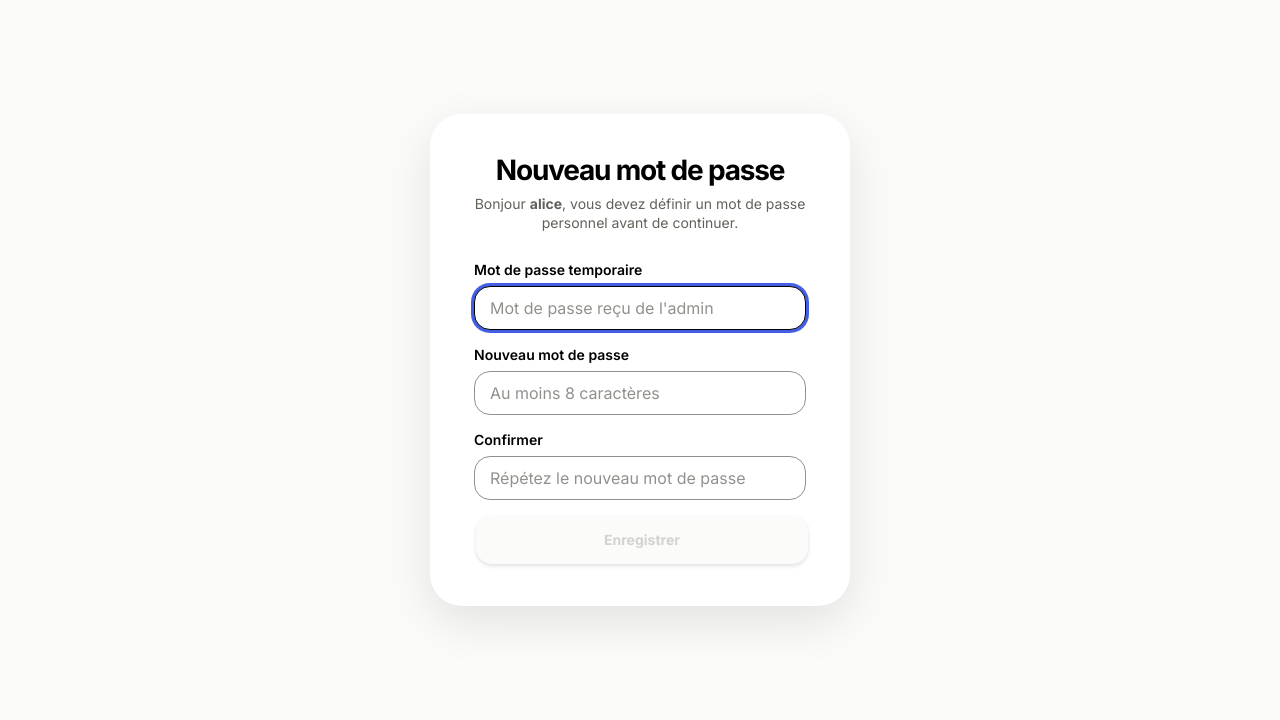
Test: ChangePasswordPage › affiche une erreur si le nouveau mot de passe est trop court
The width and height of the screenshot is (1280, 720).
Type "oldpass" into the password field labelled "Mot de passe temporaire" at (640, 308), box [474,286,806,330]
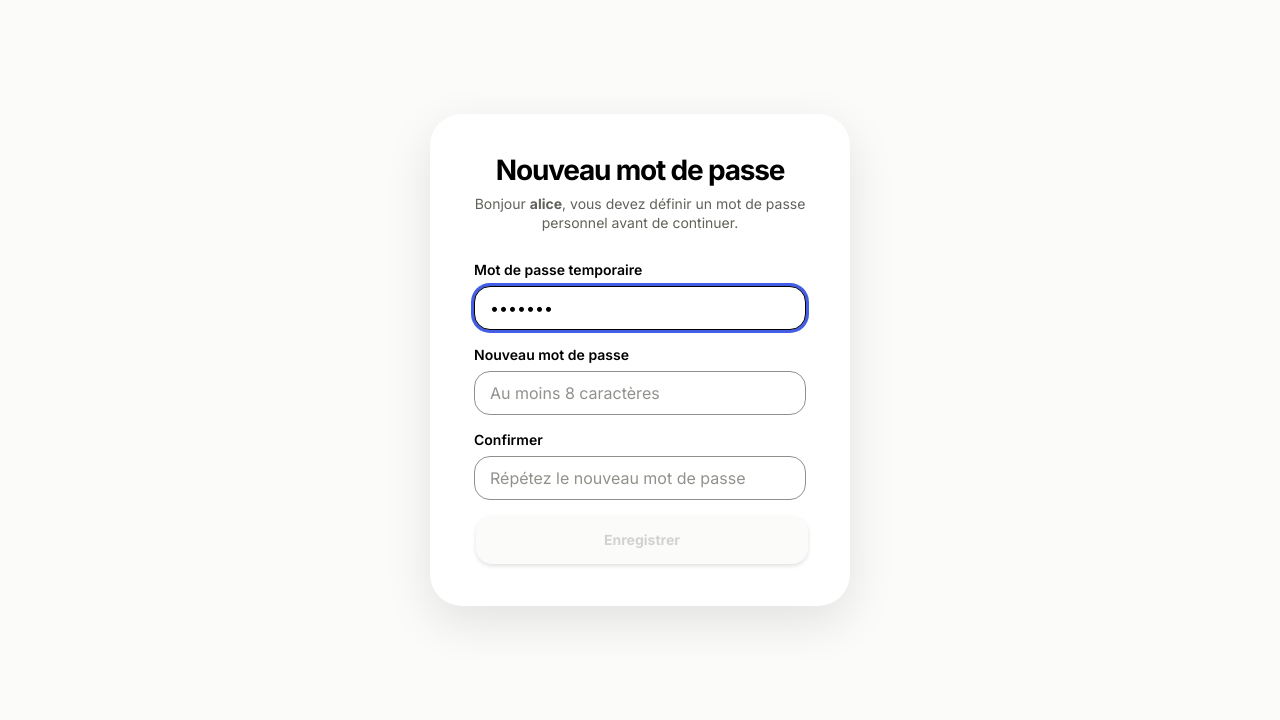
Type "court" into the password field labelled "Nouveau mot de passe" at (640, 393), box [474,371,806,415]
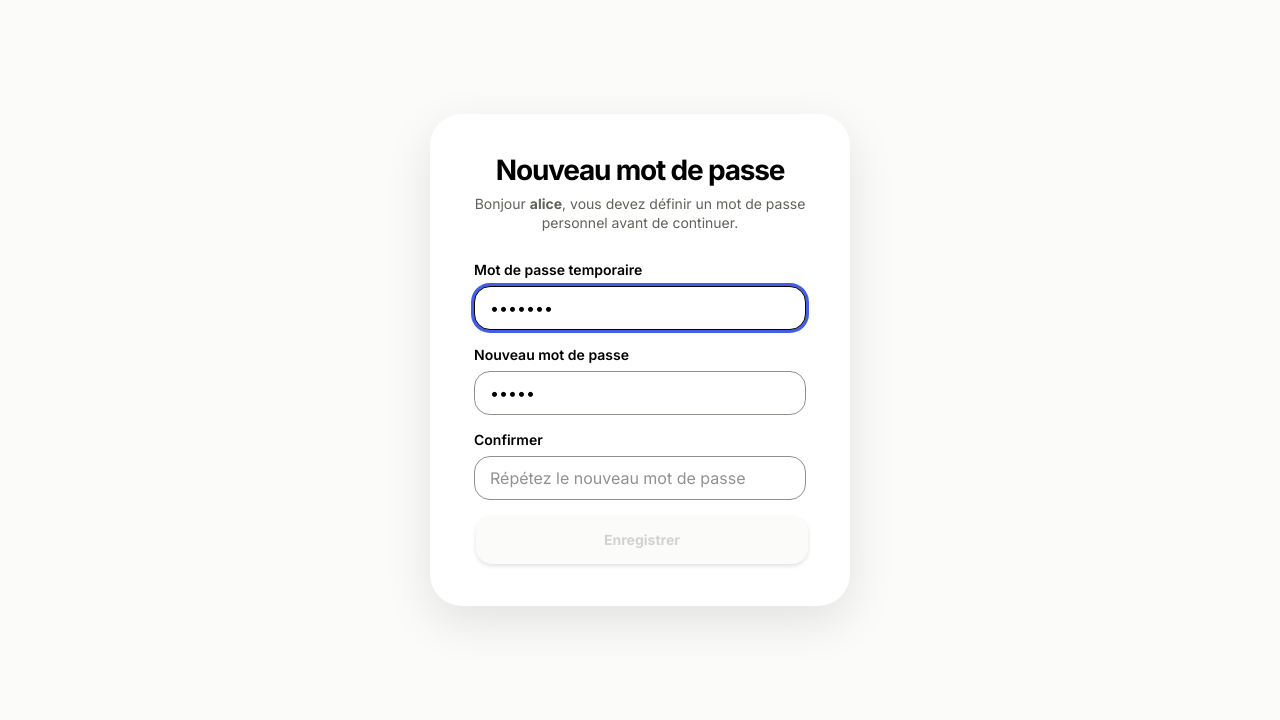
Type "court" into the password field labelled "Confirmer" at (640, 478), box [474,456,806,500]
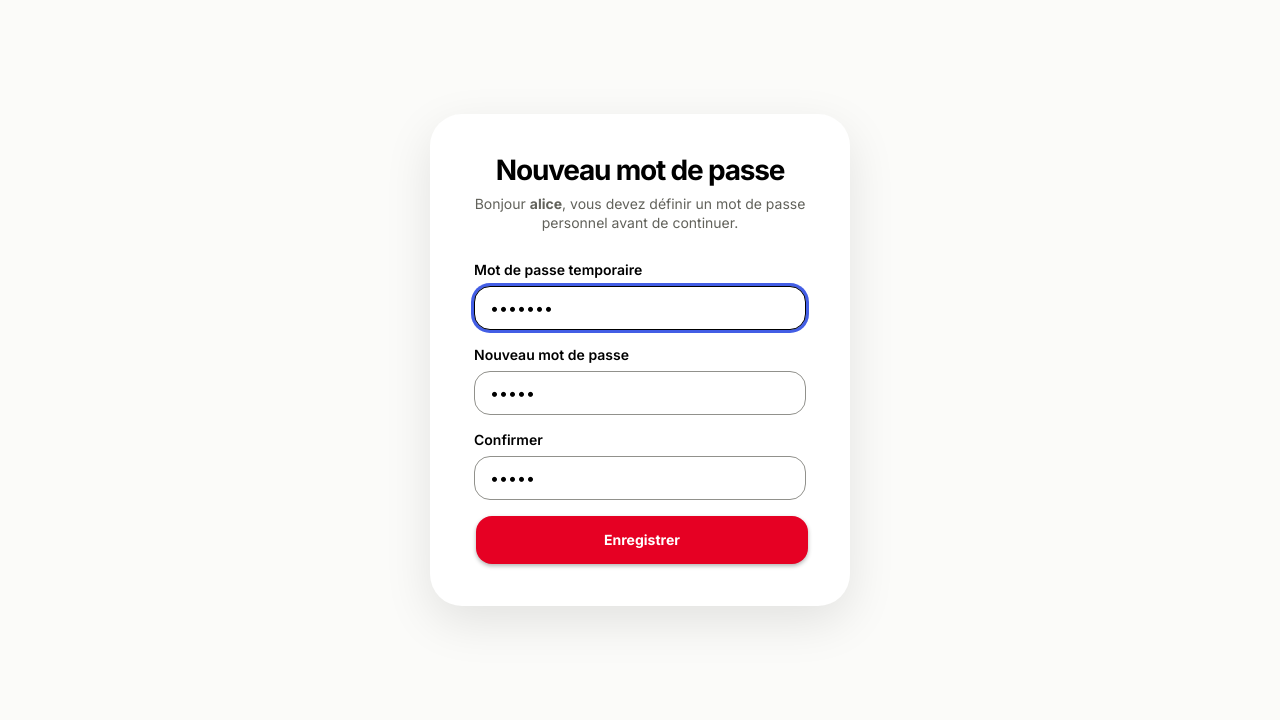
Click the button "Enregistrer" at (642, 540), box [476,516,808,564]
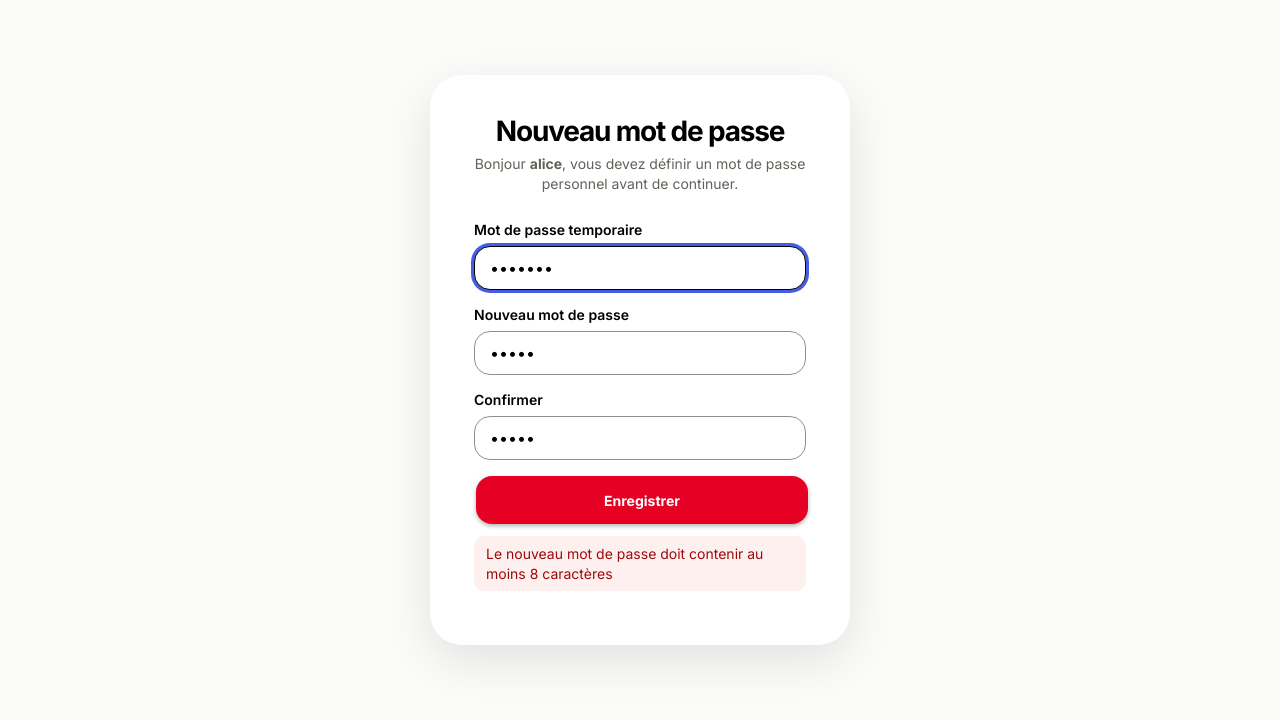
Check: the text "Le nouveau mot de passe doit contenir au moins 8 caractères" is shown, box [474,536,806,592]
